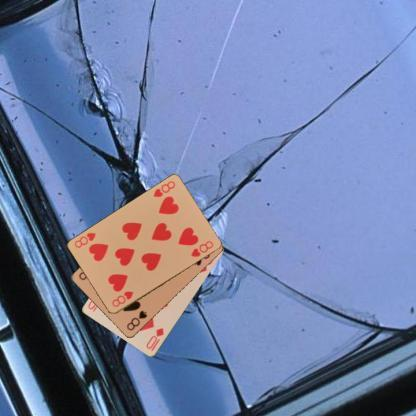10d: (144, 325, 166, 351)
8h: (150, 178, 176, 198), (110, 288, 134, 308)
8s: (124, 308, 148, 332)
